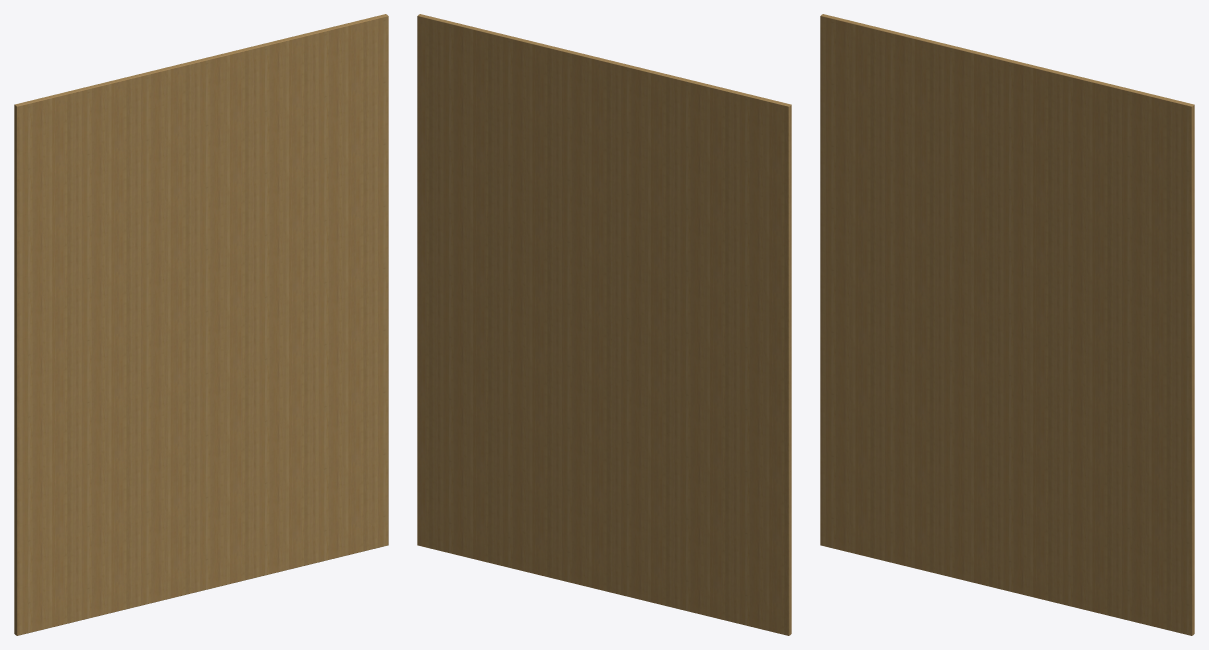
3 renders of one model, left to right at view 1: azimuth 30°, elevation 25°; view 2: azimuth 150°, elevation 25°; view 3: azimuth 330°, elevation 25°, orthographic.
Visible parts, largest first — view 1: part24:cabinet door 2; view 2: part24:cabinet door 2; view 3: part24:cabinet door 2.
Boxes of the visible parts, x1=… form: part24:cabinet door 2: x1=14, y1=14, x2=388, y2=635; part24:cabinet door 2: x1=417, y1=14, x2=791, y2=635; part24:cabinet door 2: x1=820, y1=14, x2=1194, y2=635.
Size of the model in its own units: 1.57 by 2.14 by 0.02.
Materials: 1 (1 with a texture image).
